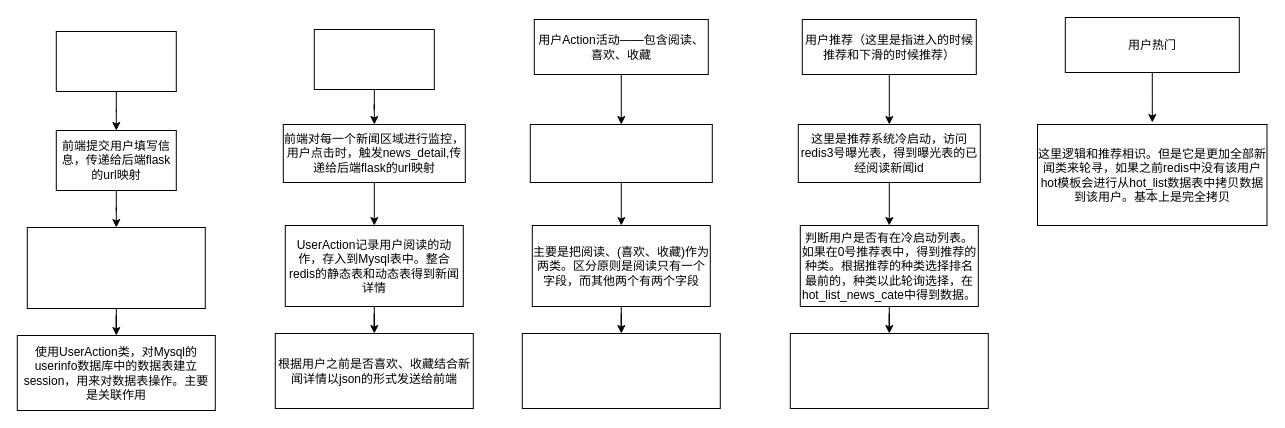
Image size: 1285x428. Some labels were removed from this diagram. Here are the shapes that lost their labels. From the top down, the centre of each, then its label:
(x=115, y=61): 用户登录
(x=373, y=59): 点击文章进入详情
(x=620, y=153): 这里Mysql中的表不是主角了，而是辅助。更多的是redis起作用
(x=115, y=267): 后端会尝试创建两个库，一个是userinfo记录用户曝光表、喜欢等；一个是loginfo相当于用户的操作日志，记录用户的动态行为
(x=620, y=370): 存入mysql的loginfo日志中，之后读取redis的动态表2号表。这里有个细节操作，就是读取处理，转成json格式，然后操作，再转换为str格式
(x=888, y=370): 推荐这里是属于冷启动，主要是针对redis表一进行操作。这里曝光筛查不只是针对今天之前，也针对今天曝光的数据
